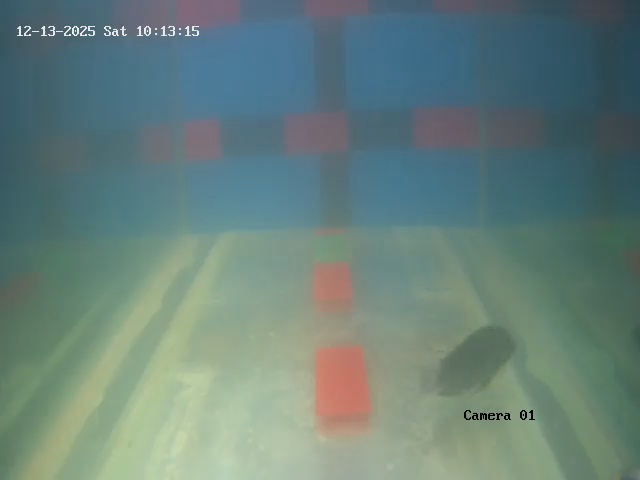fish: (427, 321, 518, 401)
